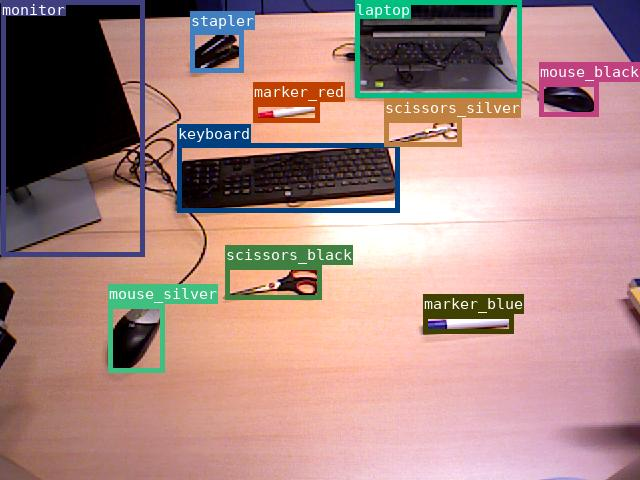keyboard: (177, 143, 399, 212)
laptop: (355, 0, 521, 97)
marker_blue: (423, 314, 513, 333)
marker_red: (253, 102, 319, 122)
monitor: (1, 0, 144, 256)
mouse_black: (539, 82, 598, 116)
mouse_silver: (108, 304, 164, 372)
scissors_black: (225, 265, 321, 299)
scissors_silver: (384, 118, 461, 146)
stapler: (190, 30, 243, 72)
